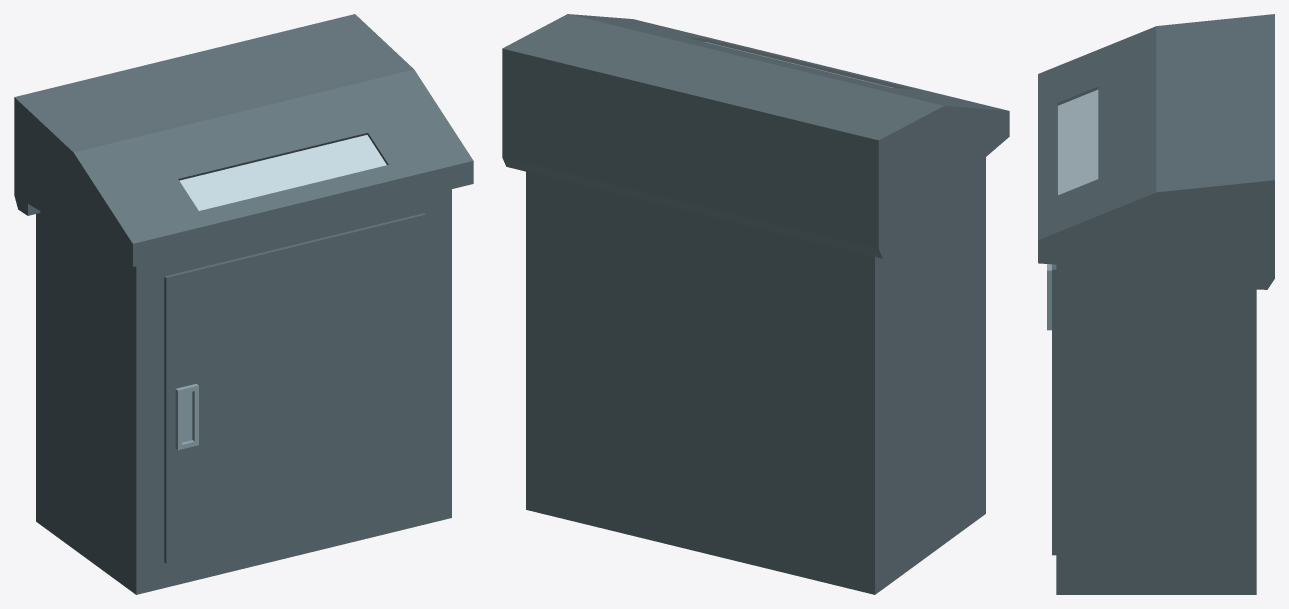
Rendered from Mailbox.fbx.
3 renders of one model, left to right at view 1: azimuth 30°, elevation 25°; view 2: azimuth 150°, elevation 25°; view 3: azimuth 270°, elevation 25°, orthographic. The views are drawn at different scales.
Parts seen in each view (by area): view 1: Mailbox_Top, Mailbox_Door, Mailbox; view 2: Mailbox, Mailbox_Top; view 3: Mailbox, Mailbox_Top, Mailbox_Door.
Part boxes in pixels (<box>): Mailbox_Top: <box>14,14,473,266</box>; Mailbox_Door: <box>164,213,425,563</box>; Mailbox: <box>36,189,451,594</box>; Mailbox: <box>526,157,985,594</box>; Mailbox_Top: <box>502,14,1009,258</box>; Mailbox: <box>1056,264,1256,594</box>; Mailbox_Top: <box>1038,14,1274,289</box>; Mailbox_Door: <box>1047,264,1056,555</box>.
Size of the model in its own units: 35.79 by 42.24 by 21.56.
